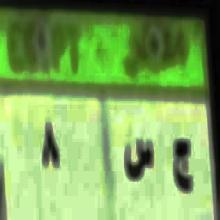8: (40, 126, 62, 173)
jeem: (171, 127, 194, 202)
seen: (120, 138, 156, 188)
